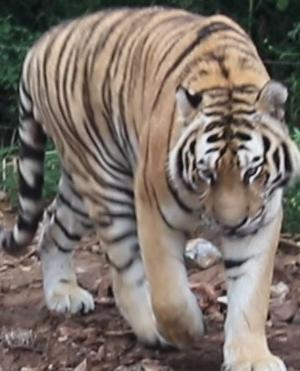tiger: (0, 6, 299, 370)
